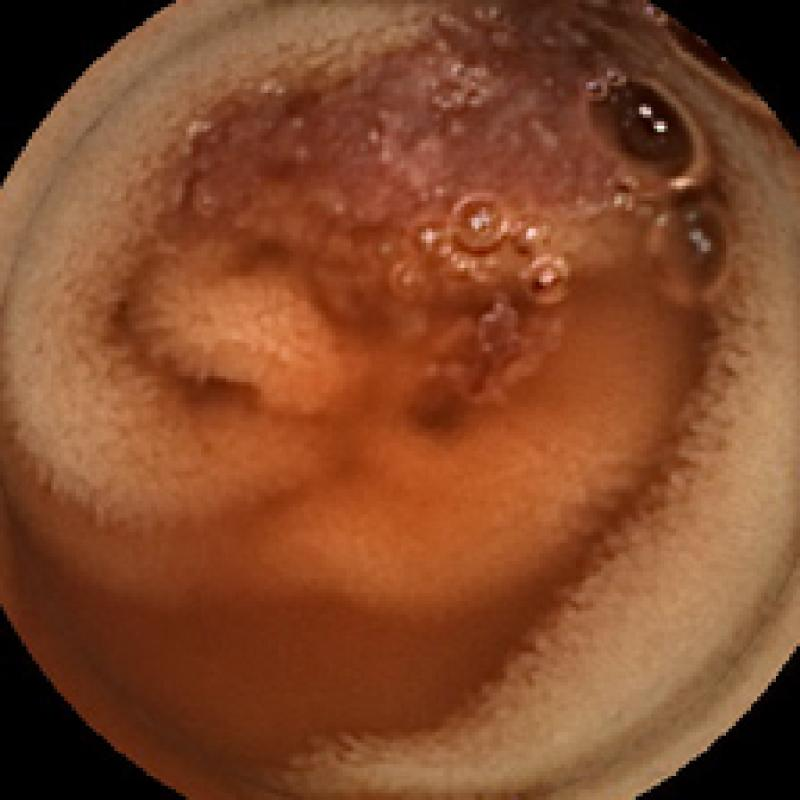bleeding: (193, 0, 761, 221), (437, 296, 540, 400)
